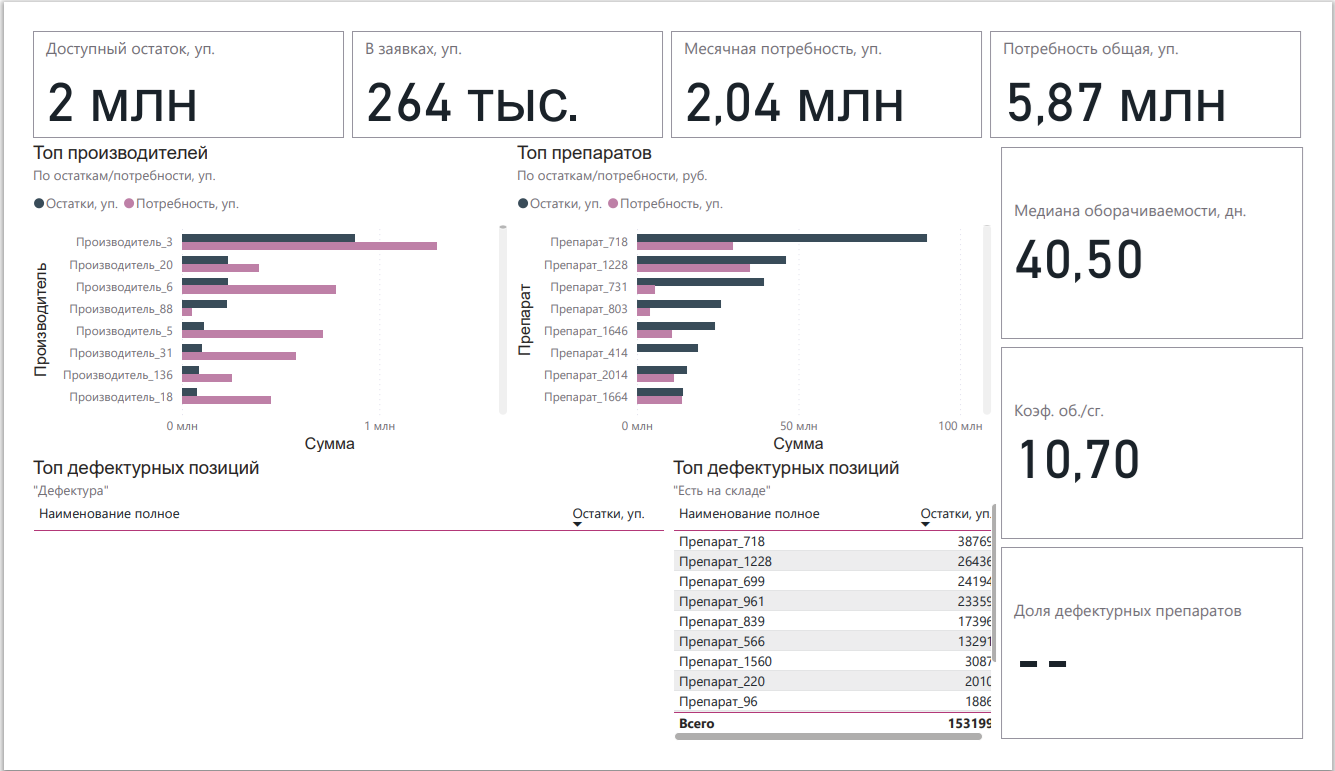

This screenshot's page, from the dashboard's own definition file:
{"tool":"powerbi","page":{"name":"Общие метрики, в уп.","canvas":[1280,720],"ordinal":4},"visuals":[{"type":"clusteredBarChart","title":"Топ производителей","fields":{"Category":["Данные (2).Производитель"],"Y":["Sum(Данные (2).Остатки, уп.)","Sum(Данные (2).Потребность, уп.)"]},"box":[0,116.2,484.2,315.2],"z":0},{"type":"clusteredBarChart","title":"Топ препаратов","fields":{"Category":["Данные (2).Наименование полное"],"Y":["Sum(Данные (2).Остатки, руб.)","Sum(Данные (2).Потребность, руб.)"]},"box":[484.2,116.2,484.2,315.2],"z":1000},{"type":"tableEx","title":"Топ дефектурных позиций","fields":{"Values":["Данные (2).Наименование полное","Sum(Данные (2).Остатки, уп.)"]},"box":[0,431.1,640.6,288.5],"z":2000},{"type":"tableEx","title":"Топ дефектурных позиций","fields":{"Values":["Данные (2).Наименование полное","Sum(Данные (2).Остатки, уп.)"]},"box":[640,431.3,337.3,288.9],"z":3000},{"type":"cardVisual","fields":{"Data":["Данные (2).Доступный остаток, уп.","Sum(Данные (2).В заявке, уп.)","Sum(Данные (2).Потребность уп./мес.)","Sum(Данные (2).Потребность, уп.)"]},"box":[0,0,1280,116.5],"z":5000},{"type":"cardVisual","fields":{"Data":["Median(Данные (2).Оборачиваемость общая)","Данные (2).Коэф. об./сг.","Данные (2).Доля дефектурных препаратов"]},"box":[968.4,116.2,311.6,603.9],"z":6000}]}

Visuals, with their boxes in screenshot pixels (x1, y1, x2, y2), scaled from the page's 1280x720 canvas onto the 1335x771 screenshot:
"Топ производителей" clusteredBarChart: [0,124,505,462]
"Топ препаратов" clusteredBarChart: [505,124,1010,462]
"Топ дефектурных позиций" tableEx: [0,462,668,770]
"Топ дефектурных позиций" tableEx: [668,462,1019,770]
cardVisual - Данные (2).Доступный остаток, уп. x Sum(Данные (2).В заявке, уп.): [0,0,1334,125]
cardVisual - Median(Данные (2).Оборачиваемость общая) x Данные (2).Коэф. об./сг.: [1010,124,1334,770]
